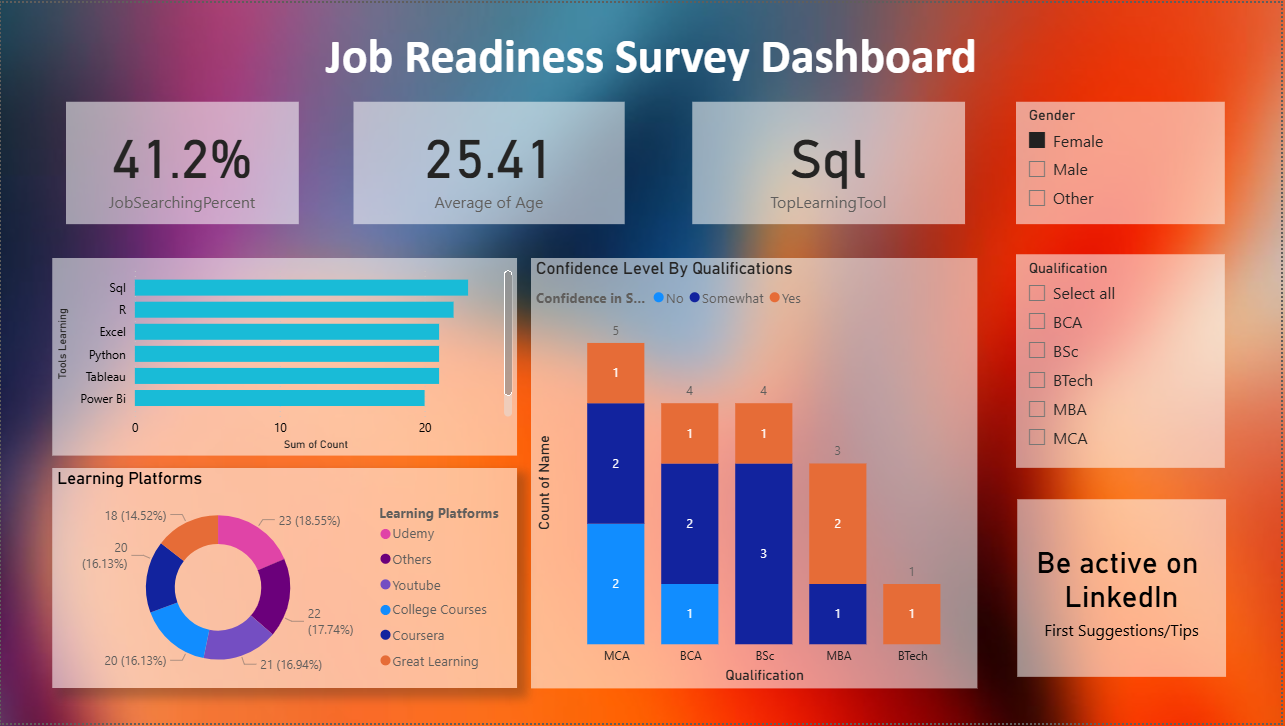

What the dashboard file says about the page in this screenshot:
{"tool":"powerbi","page":{"name":"Page 1","canvas":[1280,720],"ordinal":0},"visuals":[{"type":"textbox","box":[35.7,19.2,1228.1,79.6],"z":0},{"type":"card","fields":{"Values":["Final Table.JobSearchingPercent"]},"box":[65,98.8,232.5,122.5],"z":1000},{"type":"clusteredBarChart","fields":{"Category":["learning tools.Tools Learning"],"Y":["Sum(learning tools.Count)"]},"box":[51.2,255,465,197.5],"z":2000},{"type":"donutChart","title":"Learning Platforms","fields":{"Category":["learning platforms.Learning Platforms"],"Y":["Sum(learning platforms.count)"]},"box":[51.2,465,465,220],"z":3000},{"type":"columnChart","title":"Confidence Level By Qualifications","fields":{"Category":["Final Table.Qualification"],"Series":["Final Table.Confidence in Skills"],"Y":["CountNonNull(Final Table.Name)"]},"box":[530,255,446.2,430],"z":4000},{"type":"slicer","fields":{"Values":["Final Table.Qualification"]},"box":[1015,251.2,208.8,213.8],"z":4001},{"type":"slicer","fields":{"Values":["Final Table.Gender"]},"box":[1015,98.8,208.8,122.5],"z":4002},{"type":"card","fields":{"Values":["Avg(Final Table.Age)"]},"box":[352.5,98.8,271.2,122.5],"z":4003},{"type":"card","fields":{"Values":["Final Table.TopLearningTool"]},"box":[691.2,98.8,272.5,122.5],"z":4004},{"type":"card","fields":{"Values":["Min(Final Table.Suggestions/Tips)"]},"box":[1016.2,496.2,208.8,177.5],"z":4005}]}

Visuals, with their boxes in screenshot pixels (x1, y1, x2, y2), scaled from the page's 1280x720 canvas onto the 1285x726 screenshot:
textbox: detection(36, 19, 1269, 100)
card - Final Table.JobSearchingPercent: detection(65, 100, 299, 223)
clusteredBarChart - learning tools.Tools Learning x Sum(learning tools.Count): detection(51, 257, 518, 456)
"Learning Platforms" donutChart: detection(51, 469, 518, 691)
"Confidence Level By Qualifications" columnChart: detection(532, 257, 980, 691)
slicer - Final Table.Qualification: detection(1019, 253, 1229, 469)
slicer - Final Table.Gender: detection(1019, 100, 1229, 223)
card - Avg(Final Table.Age): detection(354, 100, 626, 223)
card - Final Table.TopLearningTool: detection(694, 100, 967, 223)
card - Min(Final Table.Suggestions/Tips): detection(1020, 500, 1230, 679)
